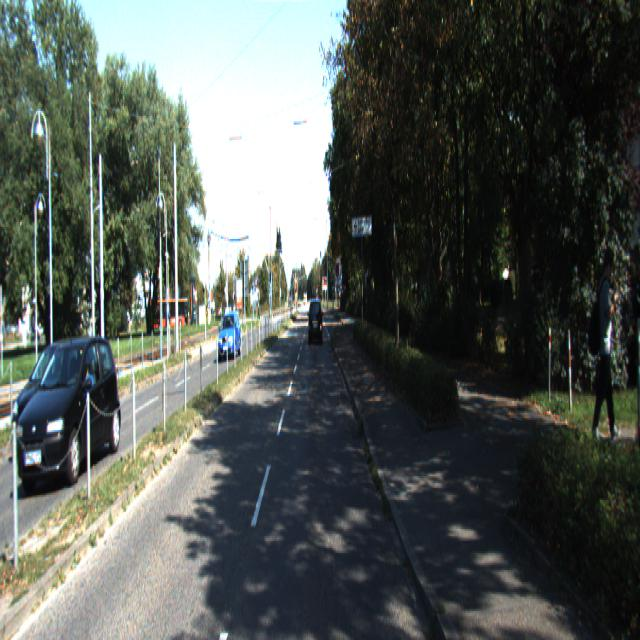Car: (18, 334, 123, 491), (9, 338, 102, 459), (218, 311, 241, 361), (309, 300, 323, 348)
